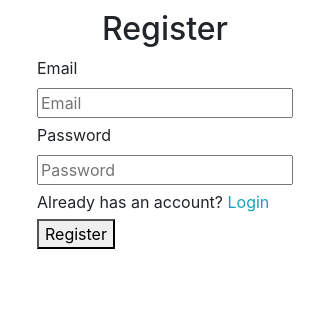
Test: register › Register form validate
The image size is (331, 314).
Expected: the password field with test id "password" is shown, [37, 155, 293, 185]
Expected: the button with test id "register-btn" is shown, [37, 219, 115, 249]
Type "hungdv" into the field with test id "email" at (165, 103), box [37, 88, 293, 118]
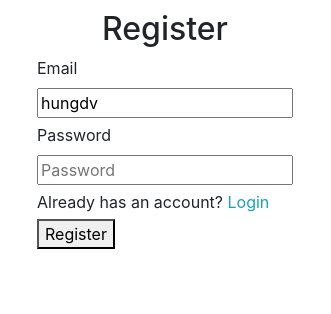
Type "12345" into the password field with test id "password" at (165, 170), box [37, 155, 293, 185]
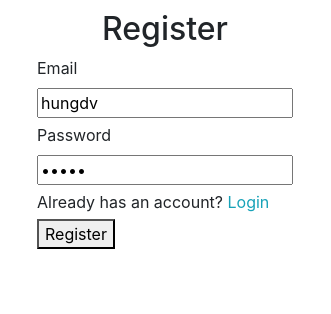
Click the button with test id "register-btn" at (76, 234), box [37, 219, 115, 249]
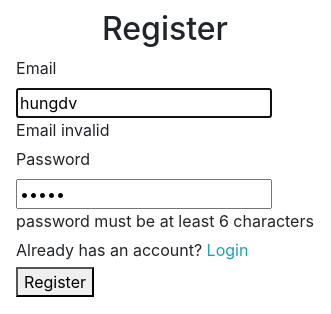
Now the text "Email invalid" is shown, box [16, 120, 110, 140]
Now the text with test id "err-validate-password" is shown, box [16, 209, 314, 233]
